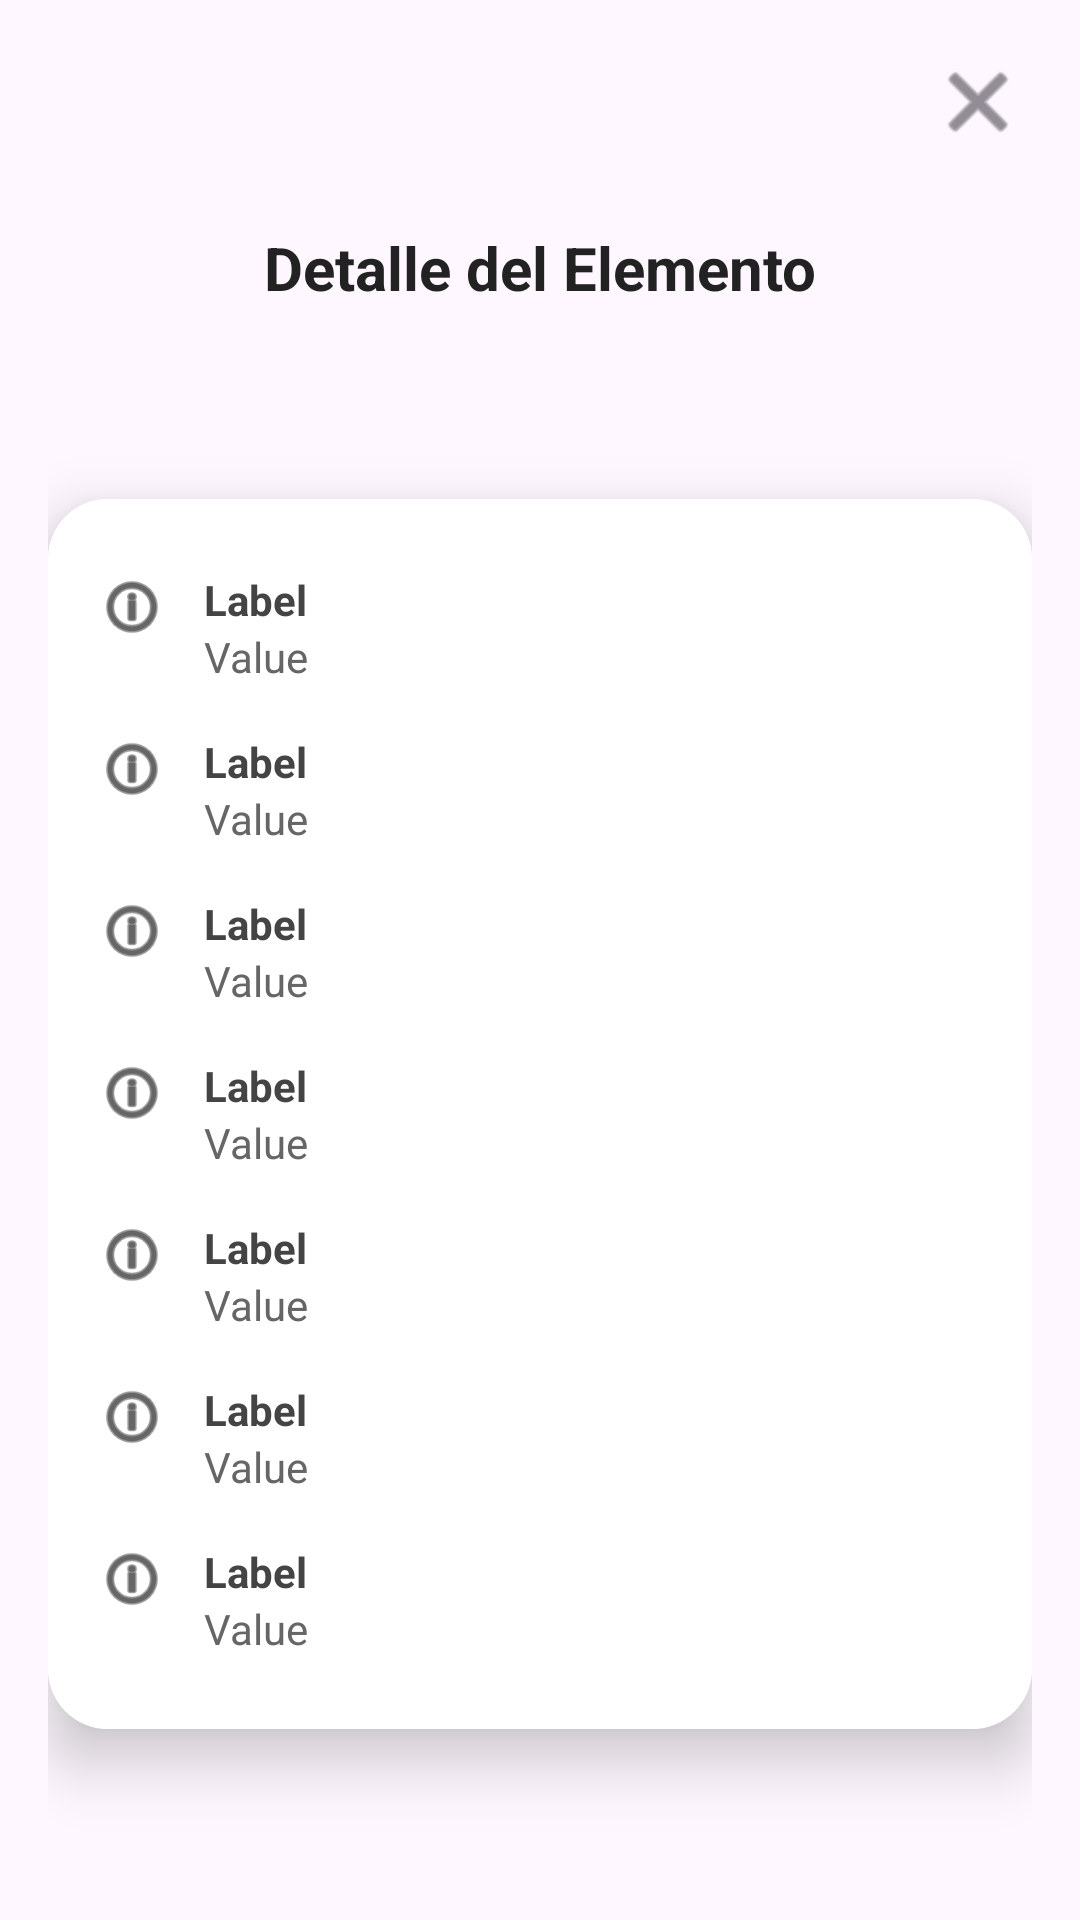

Where to tap for icons on this 1080px x 1920px app screen, as (x,y):
close clear cancel: (978,102)
info details: (132,607), (132,769), (132,931), (132,1093), (132,1255), (132,1417), (132,1579)
